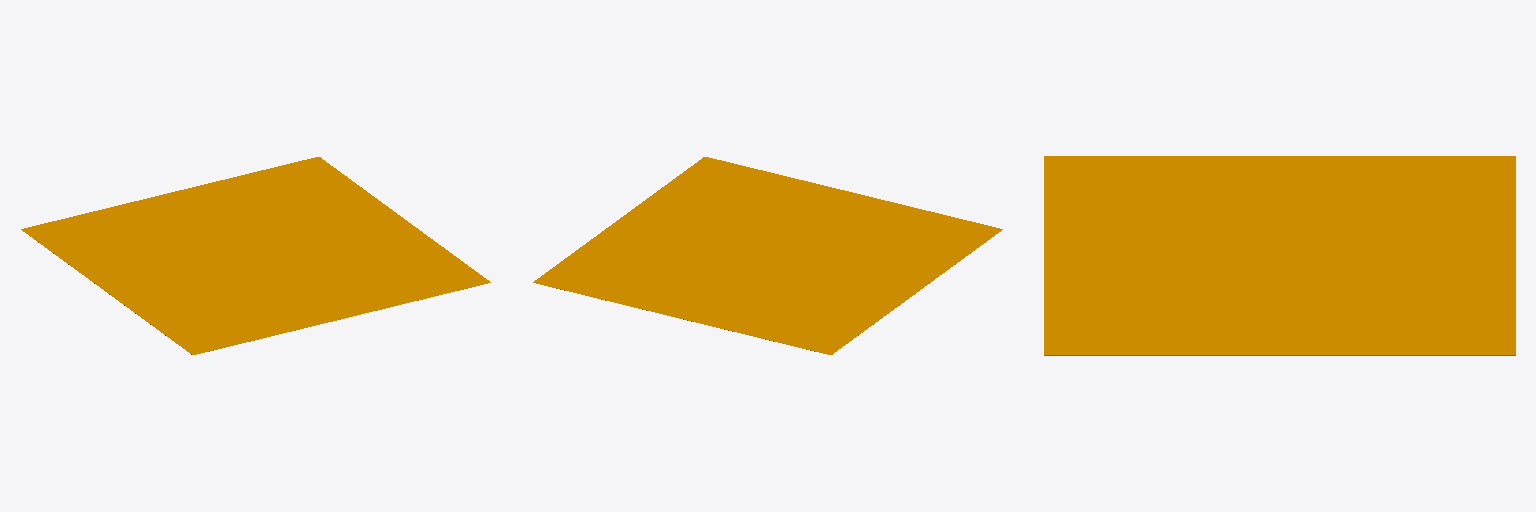
The robot description file, URDF, robot "S2":
<?xml version="1.0"?>

<robot name="S2">

	<link name="S2">
    		<inertial>
      			<origin xyz="1.041 0.779 0" /> 
      			<mass value="10.0" />
      			<inertia  ixx="1.0" ixy="0.0"  ixz="0.0"  iyy="1.0"  iyz="0.0"  izz="1.0" />
    		</inertial>
    		<visual>
      			<origin xyz="1.041 0.779 0"/>
      			<geometry>
        			<box size="0.5 0.5 0.0001" />
      			</geometry>
			<material name="surface">
				<texture filename="S2.jpg"/>
			</material>
    		</visual>
    		<collision>
      			<origin xyz="1.041 0.779 0"/>
      		<geometry>
        		<box size="0.5 0.5 0.0001" />
      		</geometry>
    		</collision>
  	</link>	

</robot>

--- Render facts (derived) ---
Views: 3 orthographic renders of the robot side by side, from view 1: azimuth 30°, elevation 25°; view 2: azimuth 150°, elevation 25°; view 3: azimuth 270°, elevation 25°.
Robot: S2 — 1 links, 0 joints (none); root link S2; default pose: every joint at zero.
Visible links, largest first — view 1: S2; view 2: S2; view 3: S2.
Boxes of the visible links, <box> form: S2: <box>21,157,490,354</box>; S2: <box>533,157,1002,354</box>; S2: <box>1044,156,1515,355</box>.
Size in the robot's own frame: 0.5 by 0.5 by 0.0001 metres.
Geometry: primitives only (box / cylinder / sphere), no mesh files.
